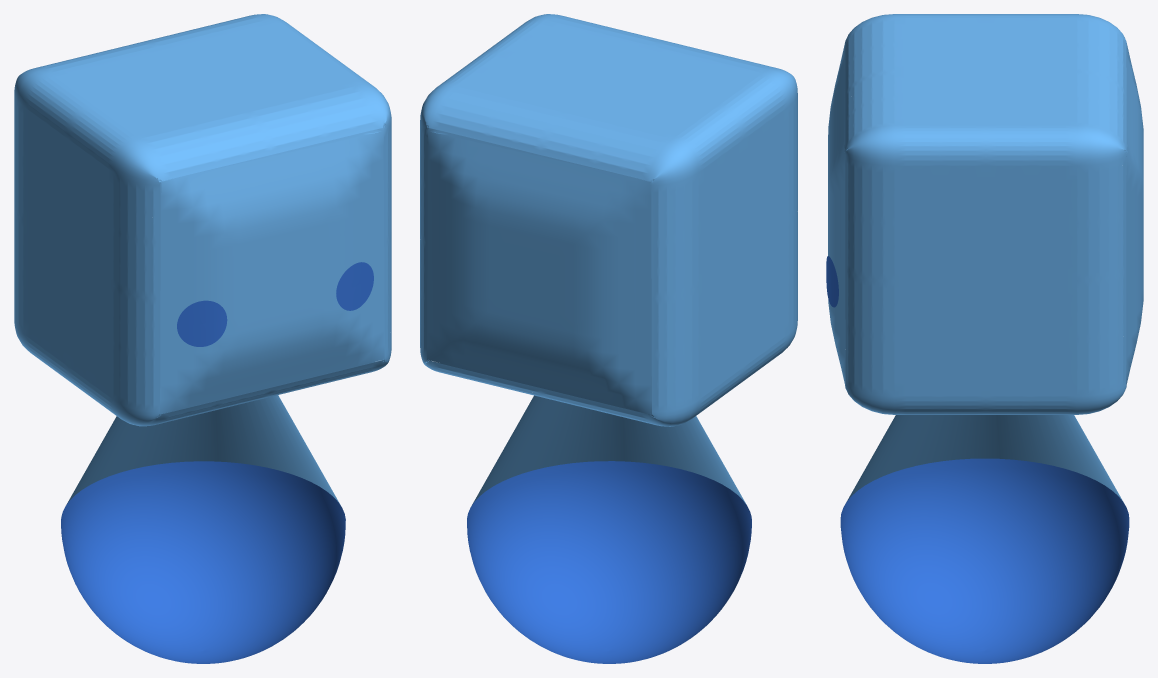
Rendered from cone-square-blue.glb.
3 renders of one model, left to right at view 1: azimuth 30°, elevation 25°; view 2: azimuth 150°, elevation 25°; view 3: azimuth 270°, elevation 25°, orthographic.
Parts seen in each view (by area): view 1: head-shell, bowl, cone, eye (×2); view 2: head-shell, bowl, cone; view 3: head-shell, bowl, cone, eye.
Boxes of the visible parts, x1=… form: head-shell: x1=14, y1=14, x2=391, y2=426; bowl: x1=61, y1=461, x2=345, y2=663; cone: x1=66, y1=395, x2=340, y2=505; eye (×2): x1=177, y1=262, x2=373, y2=346; head-shell: x1=420, y1=14, x2=797, y2=426; bowl: x1=467, y1=461, x2=751, y2=663; cone: x1=472, y1=395, x2=746, y2=504; head-shell: x1=828, y1=14, x2=1143, y2=414; bowl: x1=840, y1=458, x2=1129, y2=663; cone: x1=846, y1=415, x2=1123, y2=502; eye: x1=826, y1=256, x2=838, y2=307.
Bounding box in the file's own units: 1.09 × 2.21 × 1.1.
